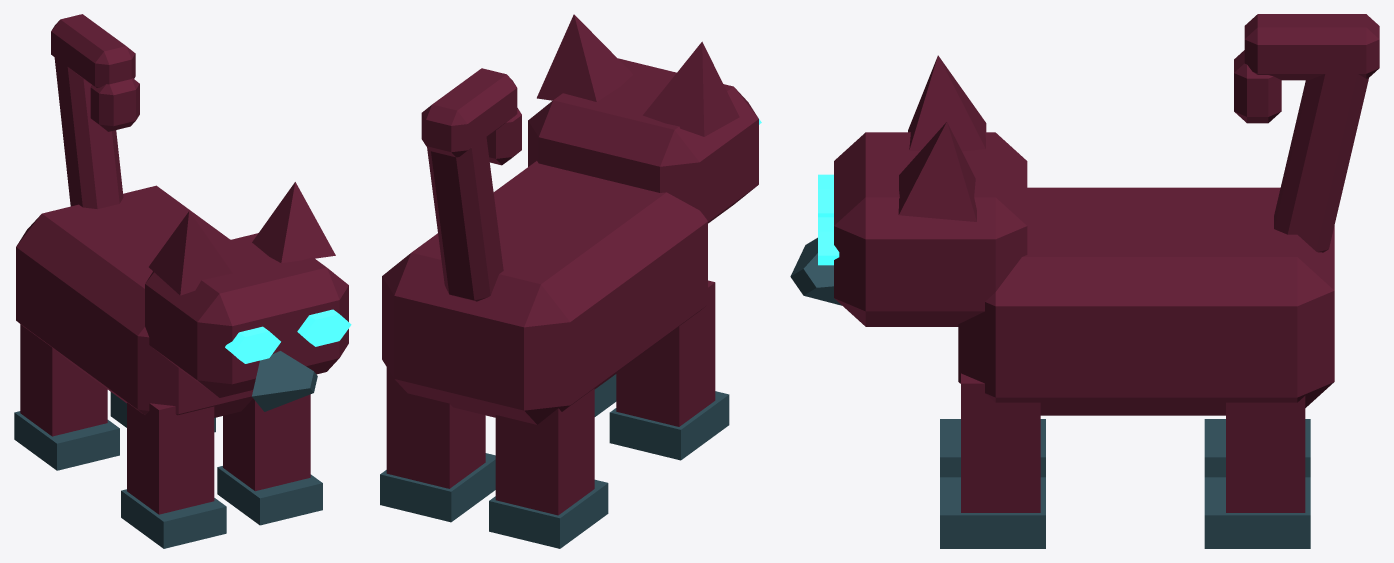
Rendered from cat.glb.
3 views of the same model, side by side, from view 1: azimuth 30°, elevation 25°; view 2: azimuth 150°, elevation 25°; view 3: azimuth 270°, elevation 25° (orthographic). The views are drawn at different scales.
Parts seen in each view (by area): view 1: Torso, Head, Leg0, Leg1, Leg2, TailA, TailB, EarR, Paw0, Paw1, Paw2, EarL (+5 smaller); view 2: Torso, Head, Leg2, TailA, Leg0, Leg3, TailB, EarL, EarR, Paw0, Paw2, Paw3 (+2 smaller); view 3: Torso, Head, TailA, Leg1, Leg3, TailB, EarR, Paw3, Paw1, EarL, TailC, Muzzle (+4 smaller).
Boxes of the visible parts, box(x1,y1,x2,y2) form: Torso: box(16, 185, 253, 417); Head: box(145, 233, 348, 397); Leg0: box(127, 402, 214, 514); Leg1: box(223, 394, 310, 491); Leg2: box(20, 324, 107, 436); TailA: box(54, 57, 123, 208); TailB: box(51, 14, 135, 87); EarR: box(252, 182, 335, 263); Paw0: box(121, 489, 226, 548); Paw1: box(217, 466, 322, 525); Paw2: box(14, 411, 119, 470); EarL: box(149, 211, 232, 295); Torso: box(382, 161, 707, 424); Head: box(528, 58, 758, 223); Leg2: box(495, 388, 594, 515); TailA: box(427, 132, 503, 301); Leg0: box(616, 280, 715, 426); Leg3: box(386, 367, 485, 488); TailB: box(421, 68, 517, 157); EarL: box(643, 41, 739, 136); EarR: box(537, 14, 633, 101); Paw0: box(609, 391, 729, 460); Paw2: box(489, 479, 608, 548); Paw3: box(380, 453, 495, 522); Torso: box(958, 187, 1334, 415); Head: box(834, 132, 1027, 326); TailA: box(1274, 68, 1368, 252); Leg1: box(961, 373, 1040, 512); Leg3: box(1226, 396, 1305, 512); TailB: box(1244, 14, 1379, 80); EarR: box(898, 122, 976, 221); Paw3: box(1204, 477, 1310, 548); Paw1: box(940, 477, 1045, 548); EarL: box(908, 55, 986, 151); TailC: box(1234, 50, 1281, 123); Muzzle: box(790, 237, 841, 305).
Bounding box in the file's own units: 0.45 × 1 × 1.11.
